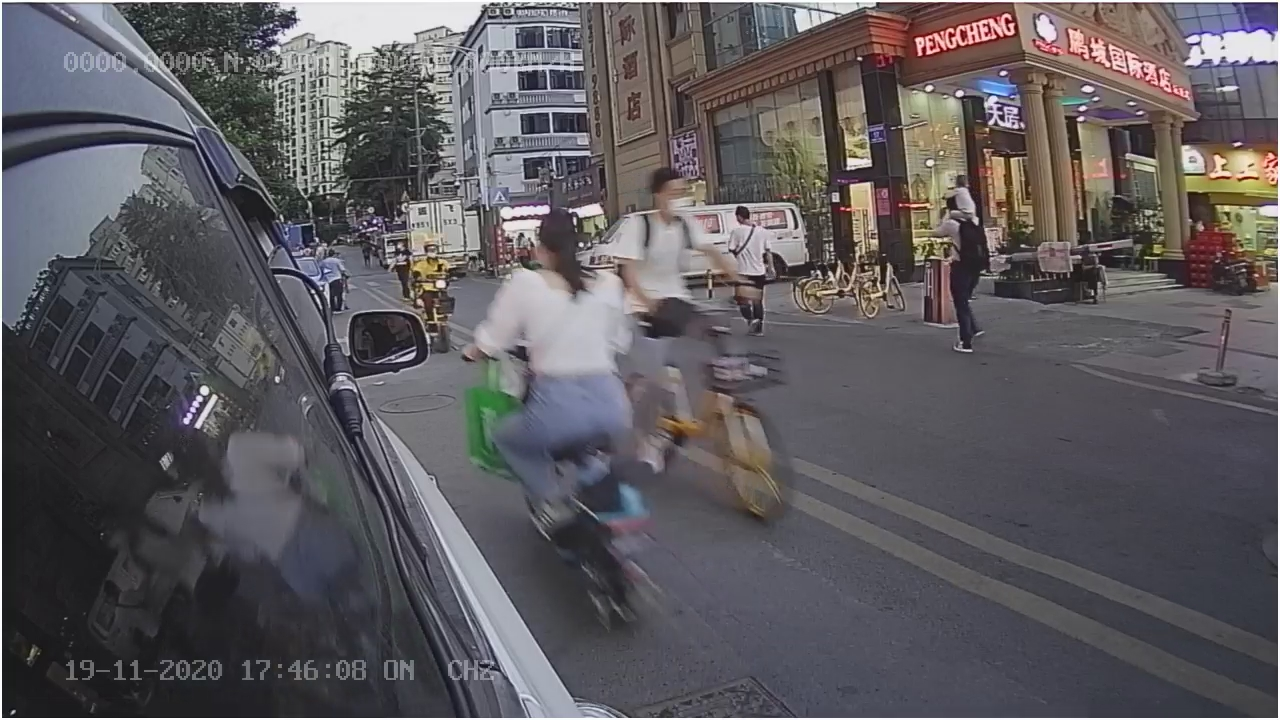person: (480, 207, 640, 472)
